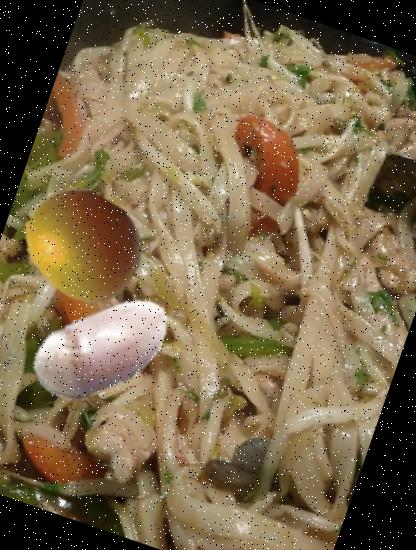Cherry: (6, 168, 162, 322)
Hazelnut: (9, 255, 197, 443)
